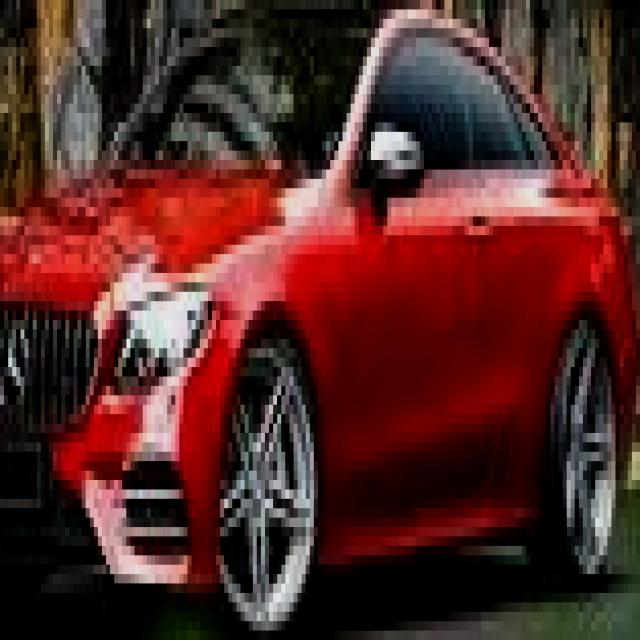red: (0, 13, 630, 589)
